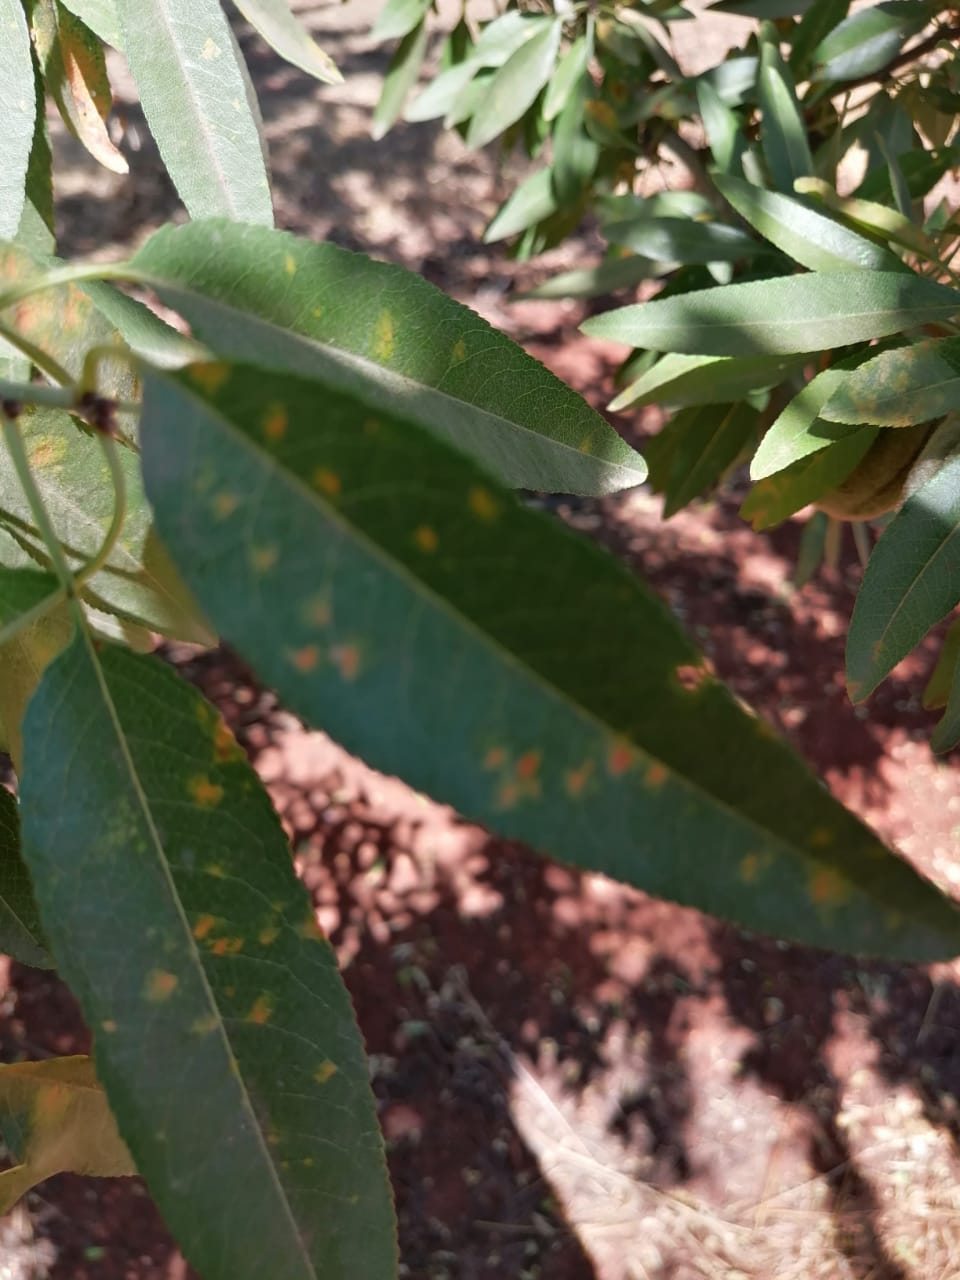polystigma: (136, 356, 960, 968), (21, 629, 403, 1280), (130, 217, 645, 496), (817, 334, 960, 435)
